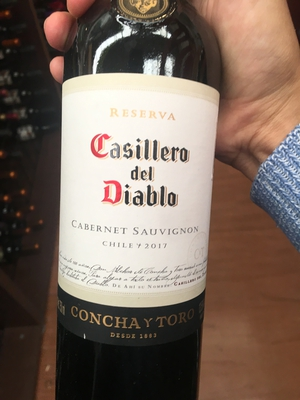casillero del diablo cabernet sauvignon: (51, 8, 226, 394)
